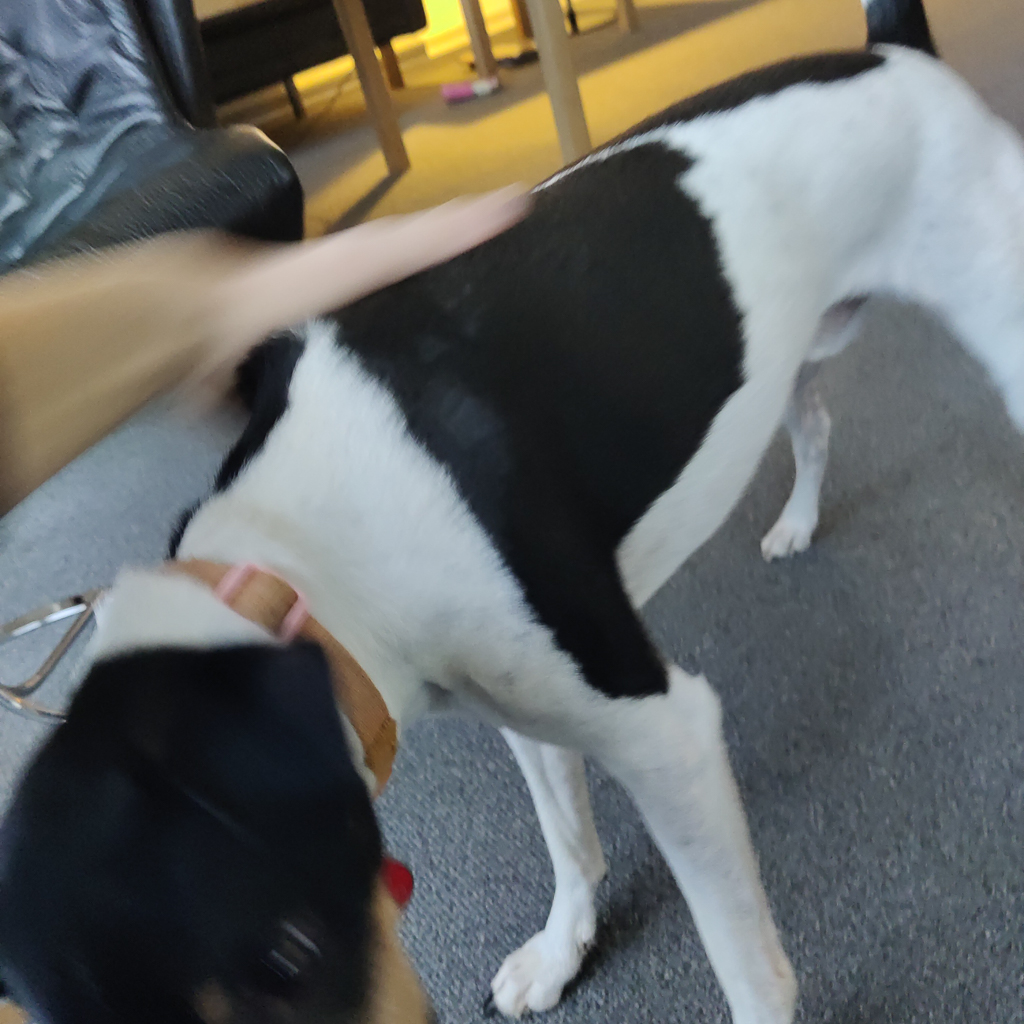Dog: (0, 0, 1024, 1024)
Humanoid: (0, 168, 561, 566)
